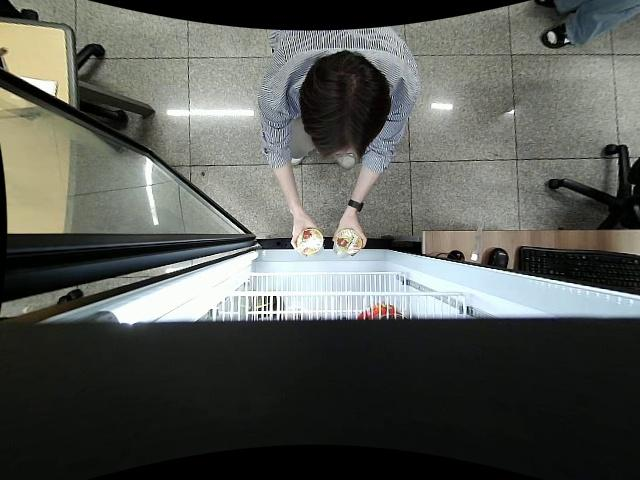00_hand: (330, 209, 367, 259), (291, 208, 317, 246)
04_chapagetti_S: (296, 230, 325, 260), (336, 230, 361, 258)
